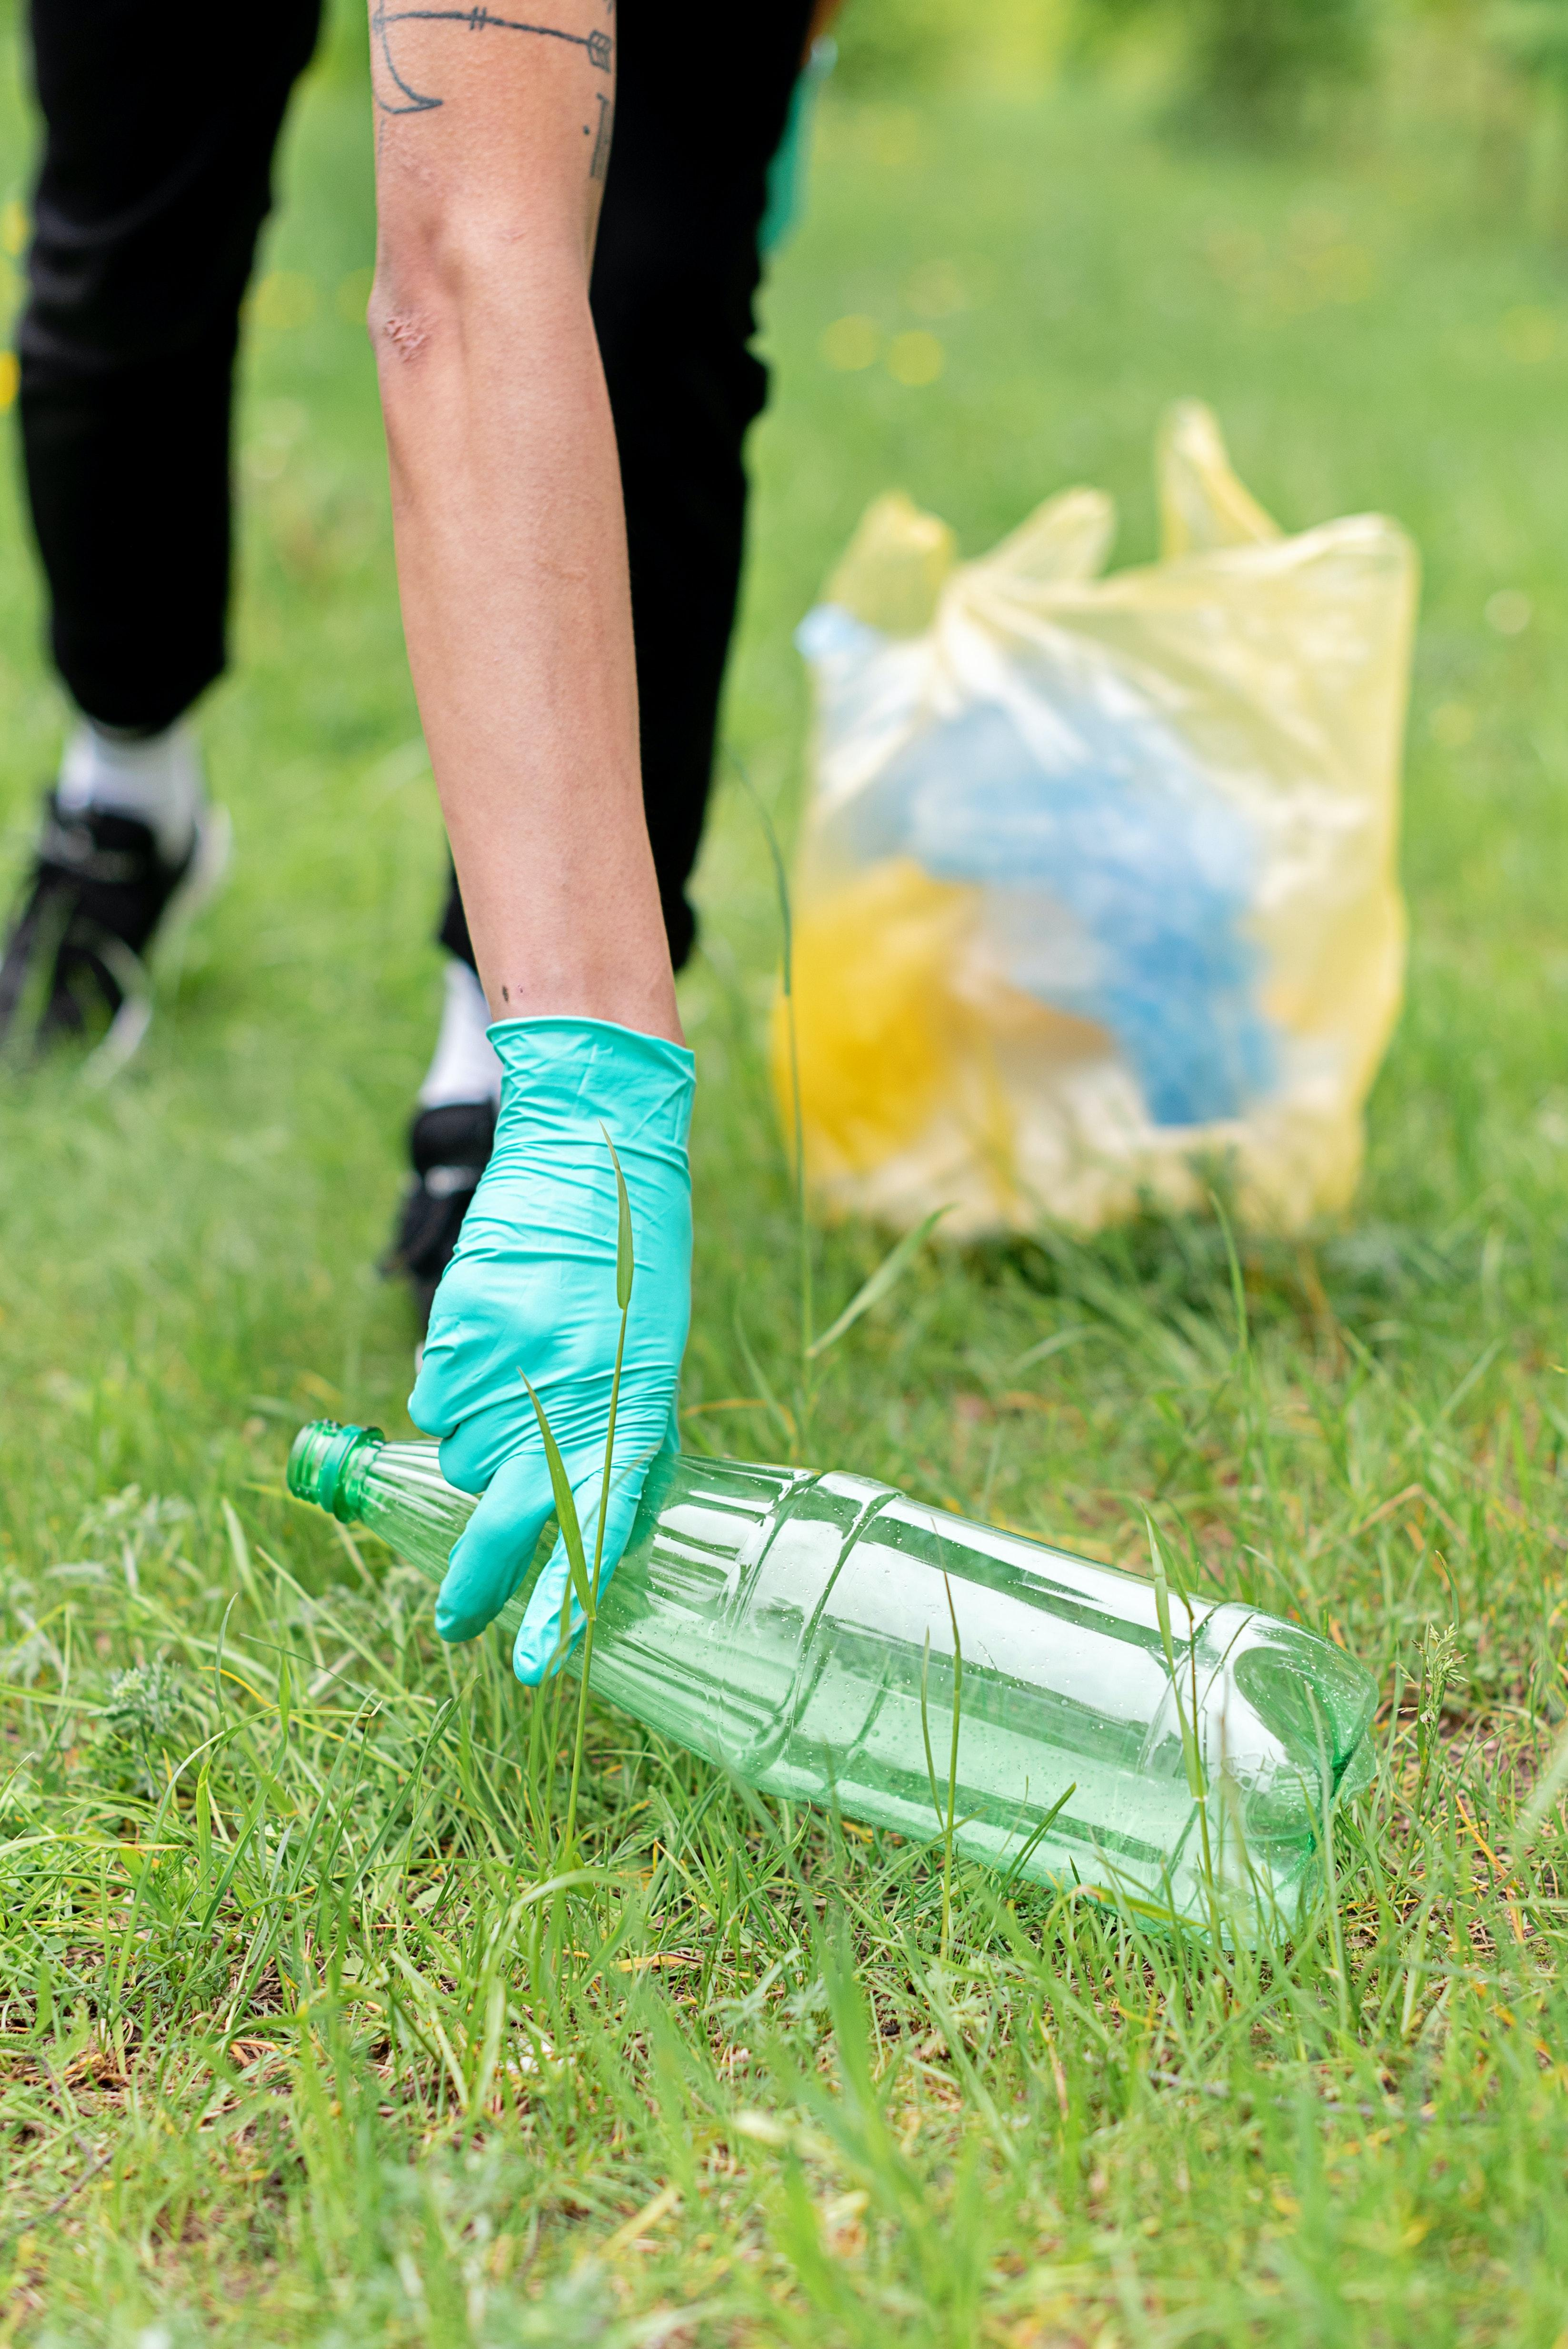bottle: (264, 1337, 1381, 2015)
